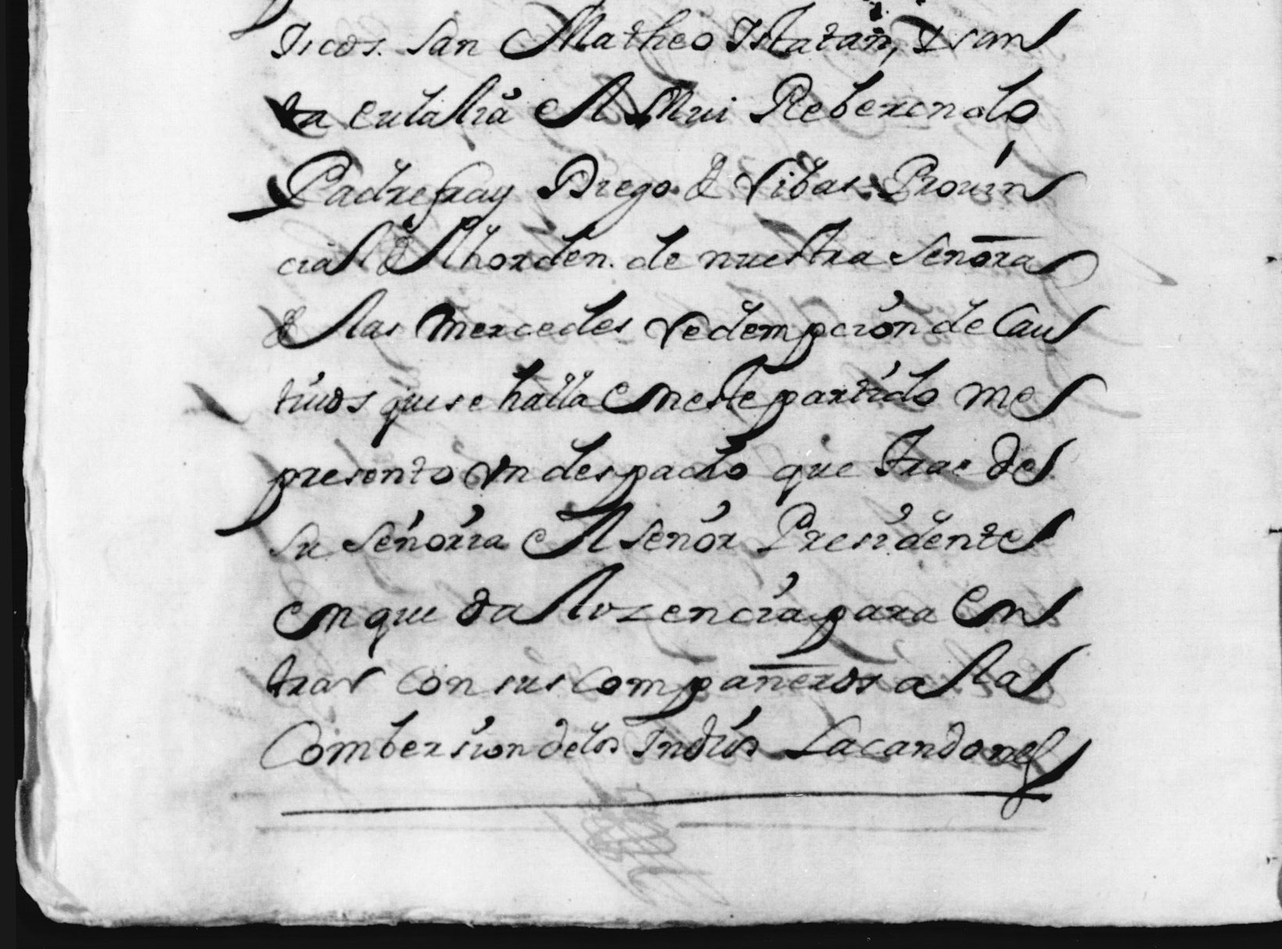lacandon: (784, 715, 1091, 819)
